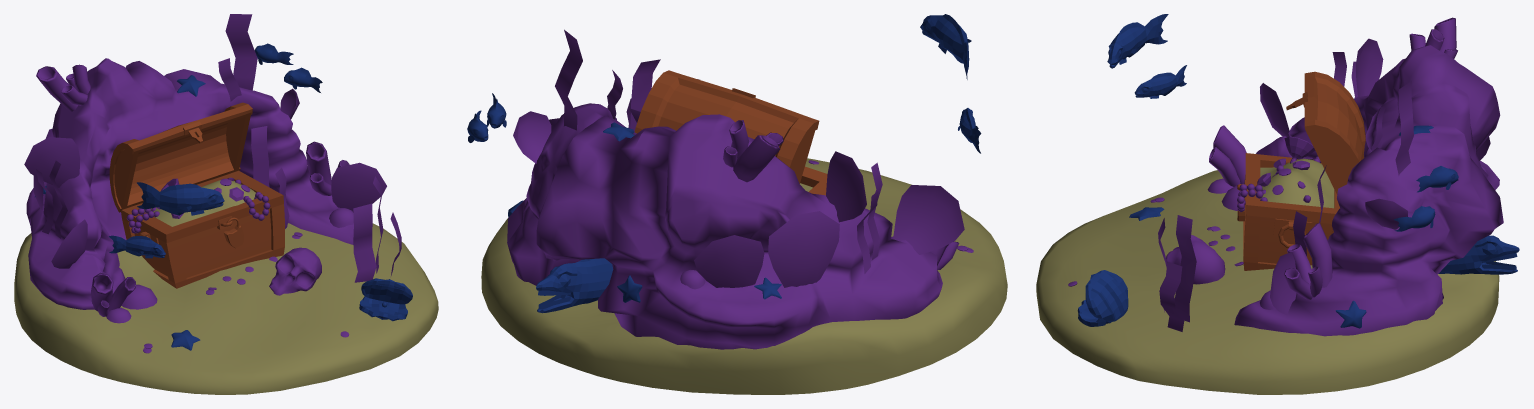
The picture shows the model from 3 angles, left to right: view 1: azimuth 30°, elevation 25°; view 2: azimuth 150°, elevation 25°; view 3: azimuth 270°, elevation 25°; orthographic projection. The views are drawn at different scales.
Parts seen in each view (by area): view 1: g polySurface33, g polySurface11, g polySurface9, g polySurface95 polySurface13 polySurface10 yourNameHere; view 2: g polySurface33, g polySurface11, g polySurface9, g polySurface95 polySurface13 polySurface10 yourNameHere; view 3: g polySurface33, g polySurface11, g polySurface9, g polySurface95 polySurface13 polySurface10 yourNameHere.
Boxes of the visible parts, <box> form: g polySurface33: <box>24,14,401,353</box>; g polySurface11: <box>14,180,438,394</box>; g polySurface9: <box>109,102,285,288</box>; g polySurface95 polySurface13 polySurface10 yourNameHere: <box>35,43,412,350</box>; g polySurface33: <box>507,29,973,349</box>; g polySurface11: <box>481,158,1007,394</box>; g polySurface9: <box>634,70,827,195</box>; g polySurface95 polySurface13 polySurface10 yourNameHere: <box>467,14,981,313</box>; g polySurface33: <box>1068,17,1503,336</box>; g polySurface11: <box>1036,158,1499,394</box>; g polySurface9: <box>1237,71,1365,270</box>; g polySurface95 polySurface13 polySurface10 yourNameHere: <box>1077,14,1519,328</box>.
Bounding box in the file's own units: 1.94 × 1.16 × 2.
